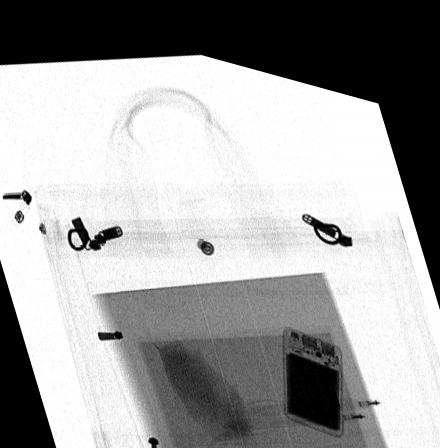Powerbank: (281, 309, 344, 419)
